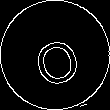O_N: (27, 24, 83, 86)
